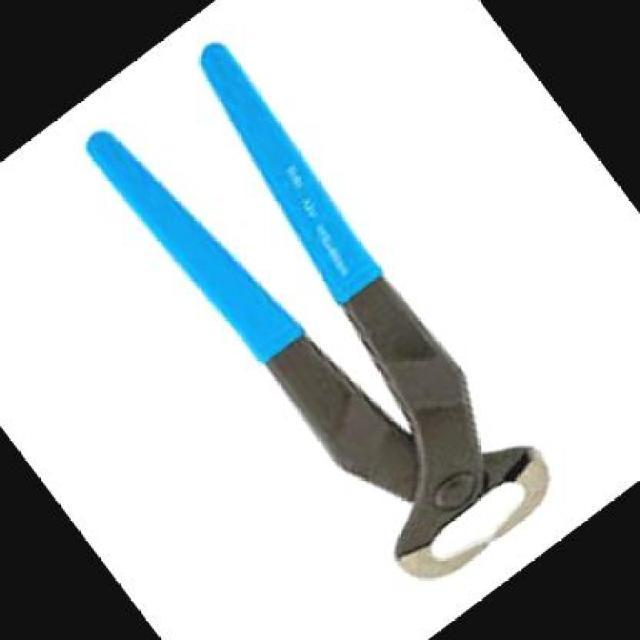pliers: (26, 0, 620, 635)
